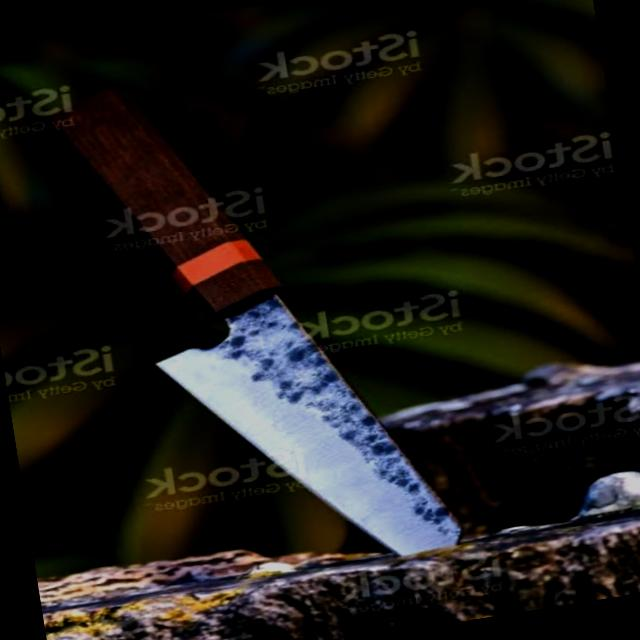knife: (44, 47, 478, 608)
